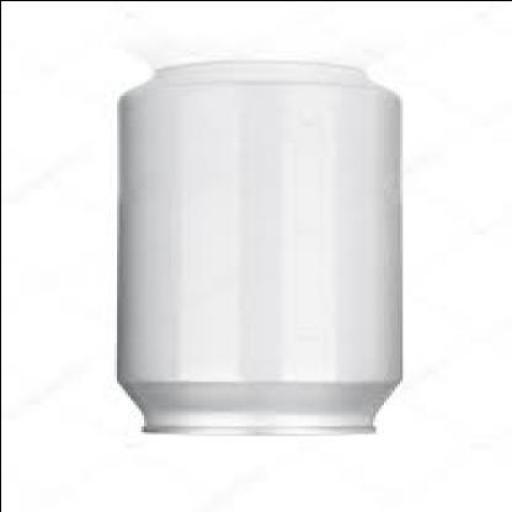metal: (119, 64, 404, 437)
